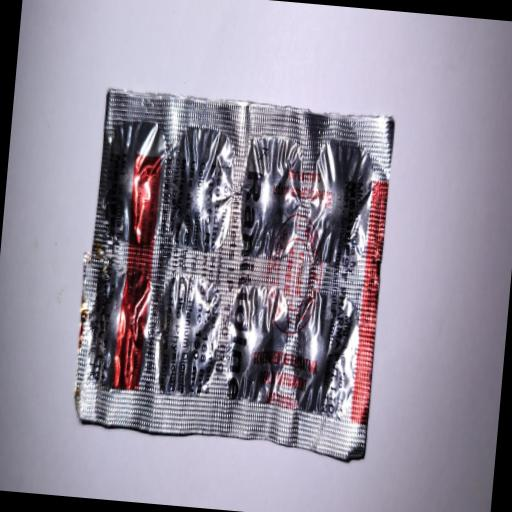ranitidine: (44, 34, 413, 500)
